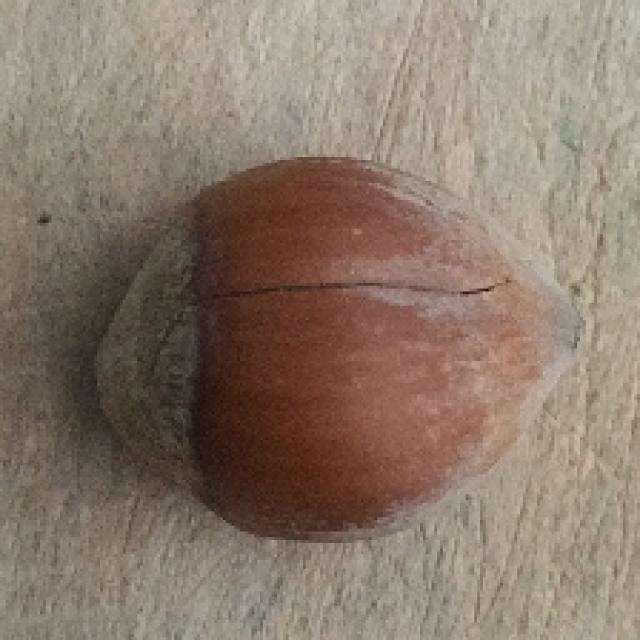qualityHazelnut: (84, 150, 586, 547)
